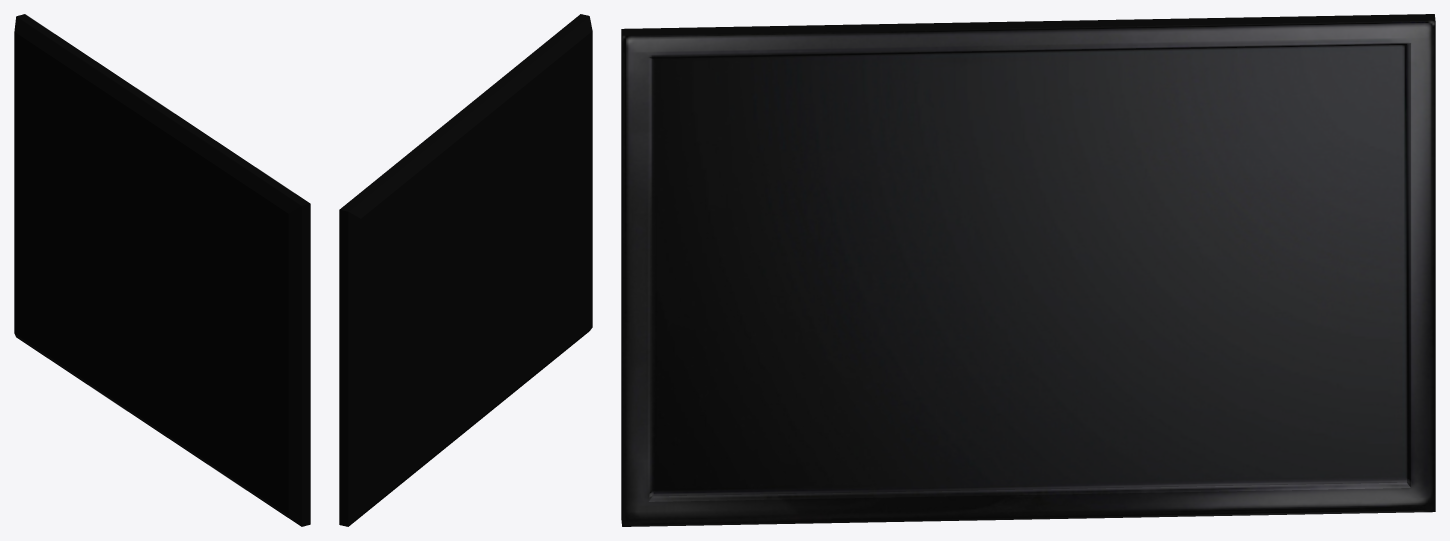
File: dianshi001.obj
3 renders of one model, left to right at view 1: azimuth 30°, elevation 25°; view 2: azimuth 150°, elevation 25°; view 3: azimuth 270°, elevation 25°, orthographic. The views are drawn at different scales.
Parts seen in each view (by area): view 1: DZYJY61; view 2: DZYJY61; view 3: DZYJY61.
Part boxes in pixels (x1,y1,x2,y2): DZYJY61: [14, 14, 310, 526]; DZYJY61: [339, 14, 592, 526]; DZYJY61: [621, 14, 1435, 526].
Size of the model in its own units: 4.72 by 40 by 60.05.
